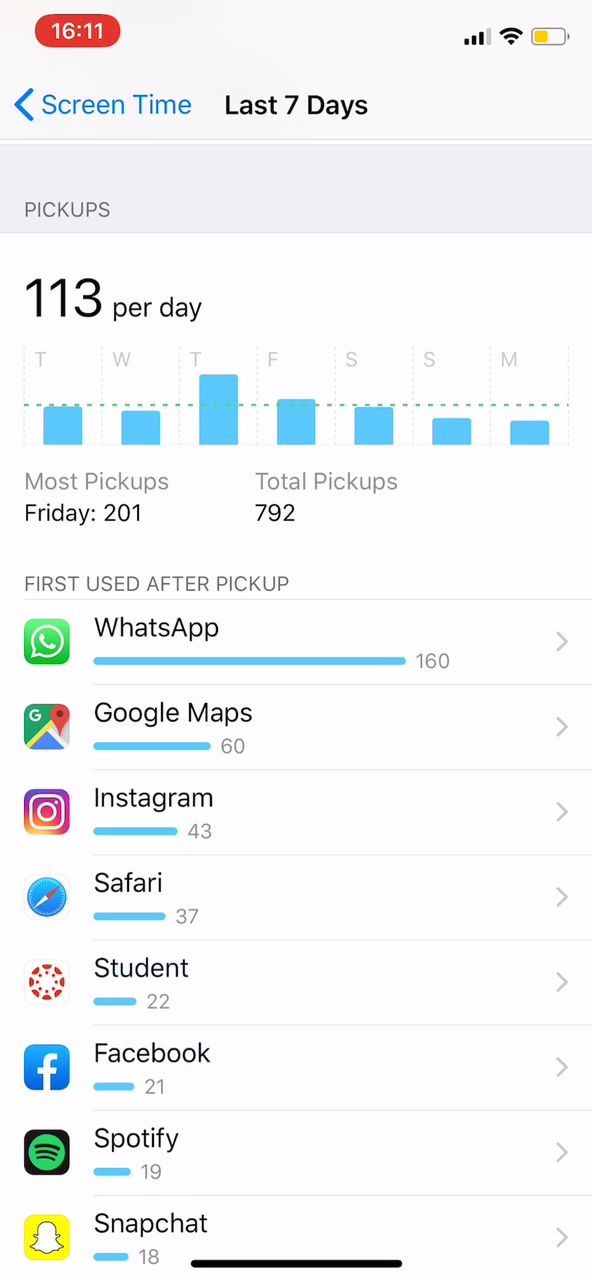pick_app: (17, 607, 492, 674), (12, 692, 297, 761), (15, 1110, 236, 1186), (18, 777, 250, 846), (15, 1033, 243, 1094), (17, 952, 211, 1013)
pick_over: (22, 460, 459, 541), (23, 861, 218, 935)
week: (223, 77, 378, 128)
